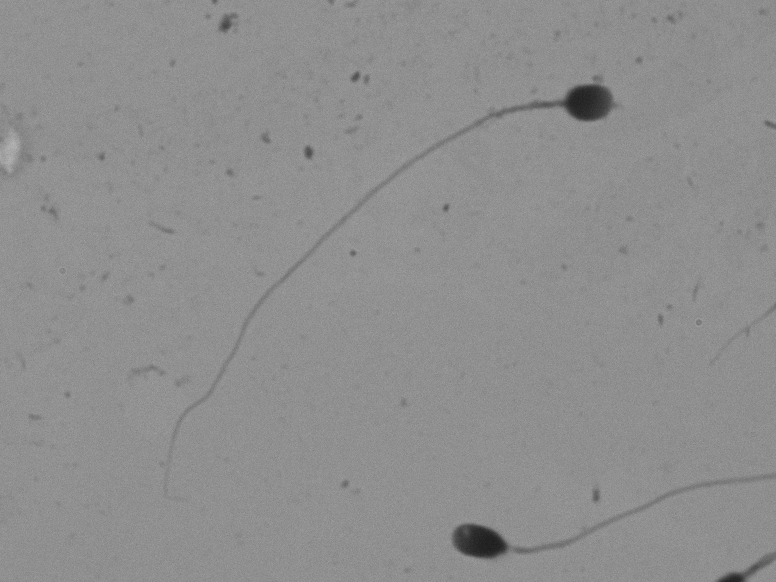Normal: (73, 56, 640, 480), (401, 464, 765, 569)
